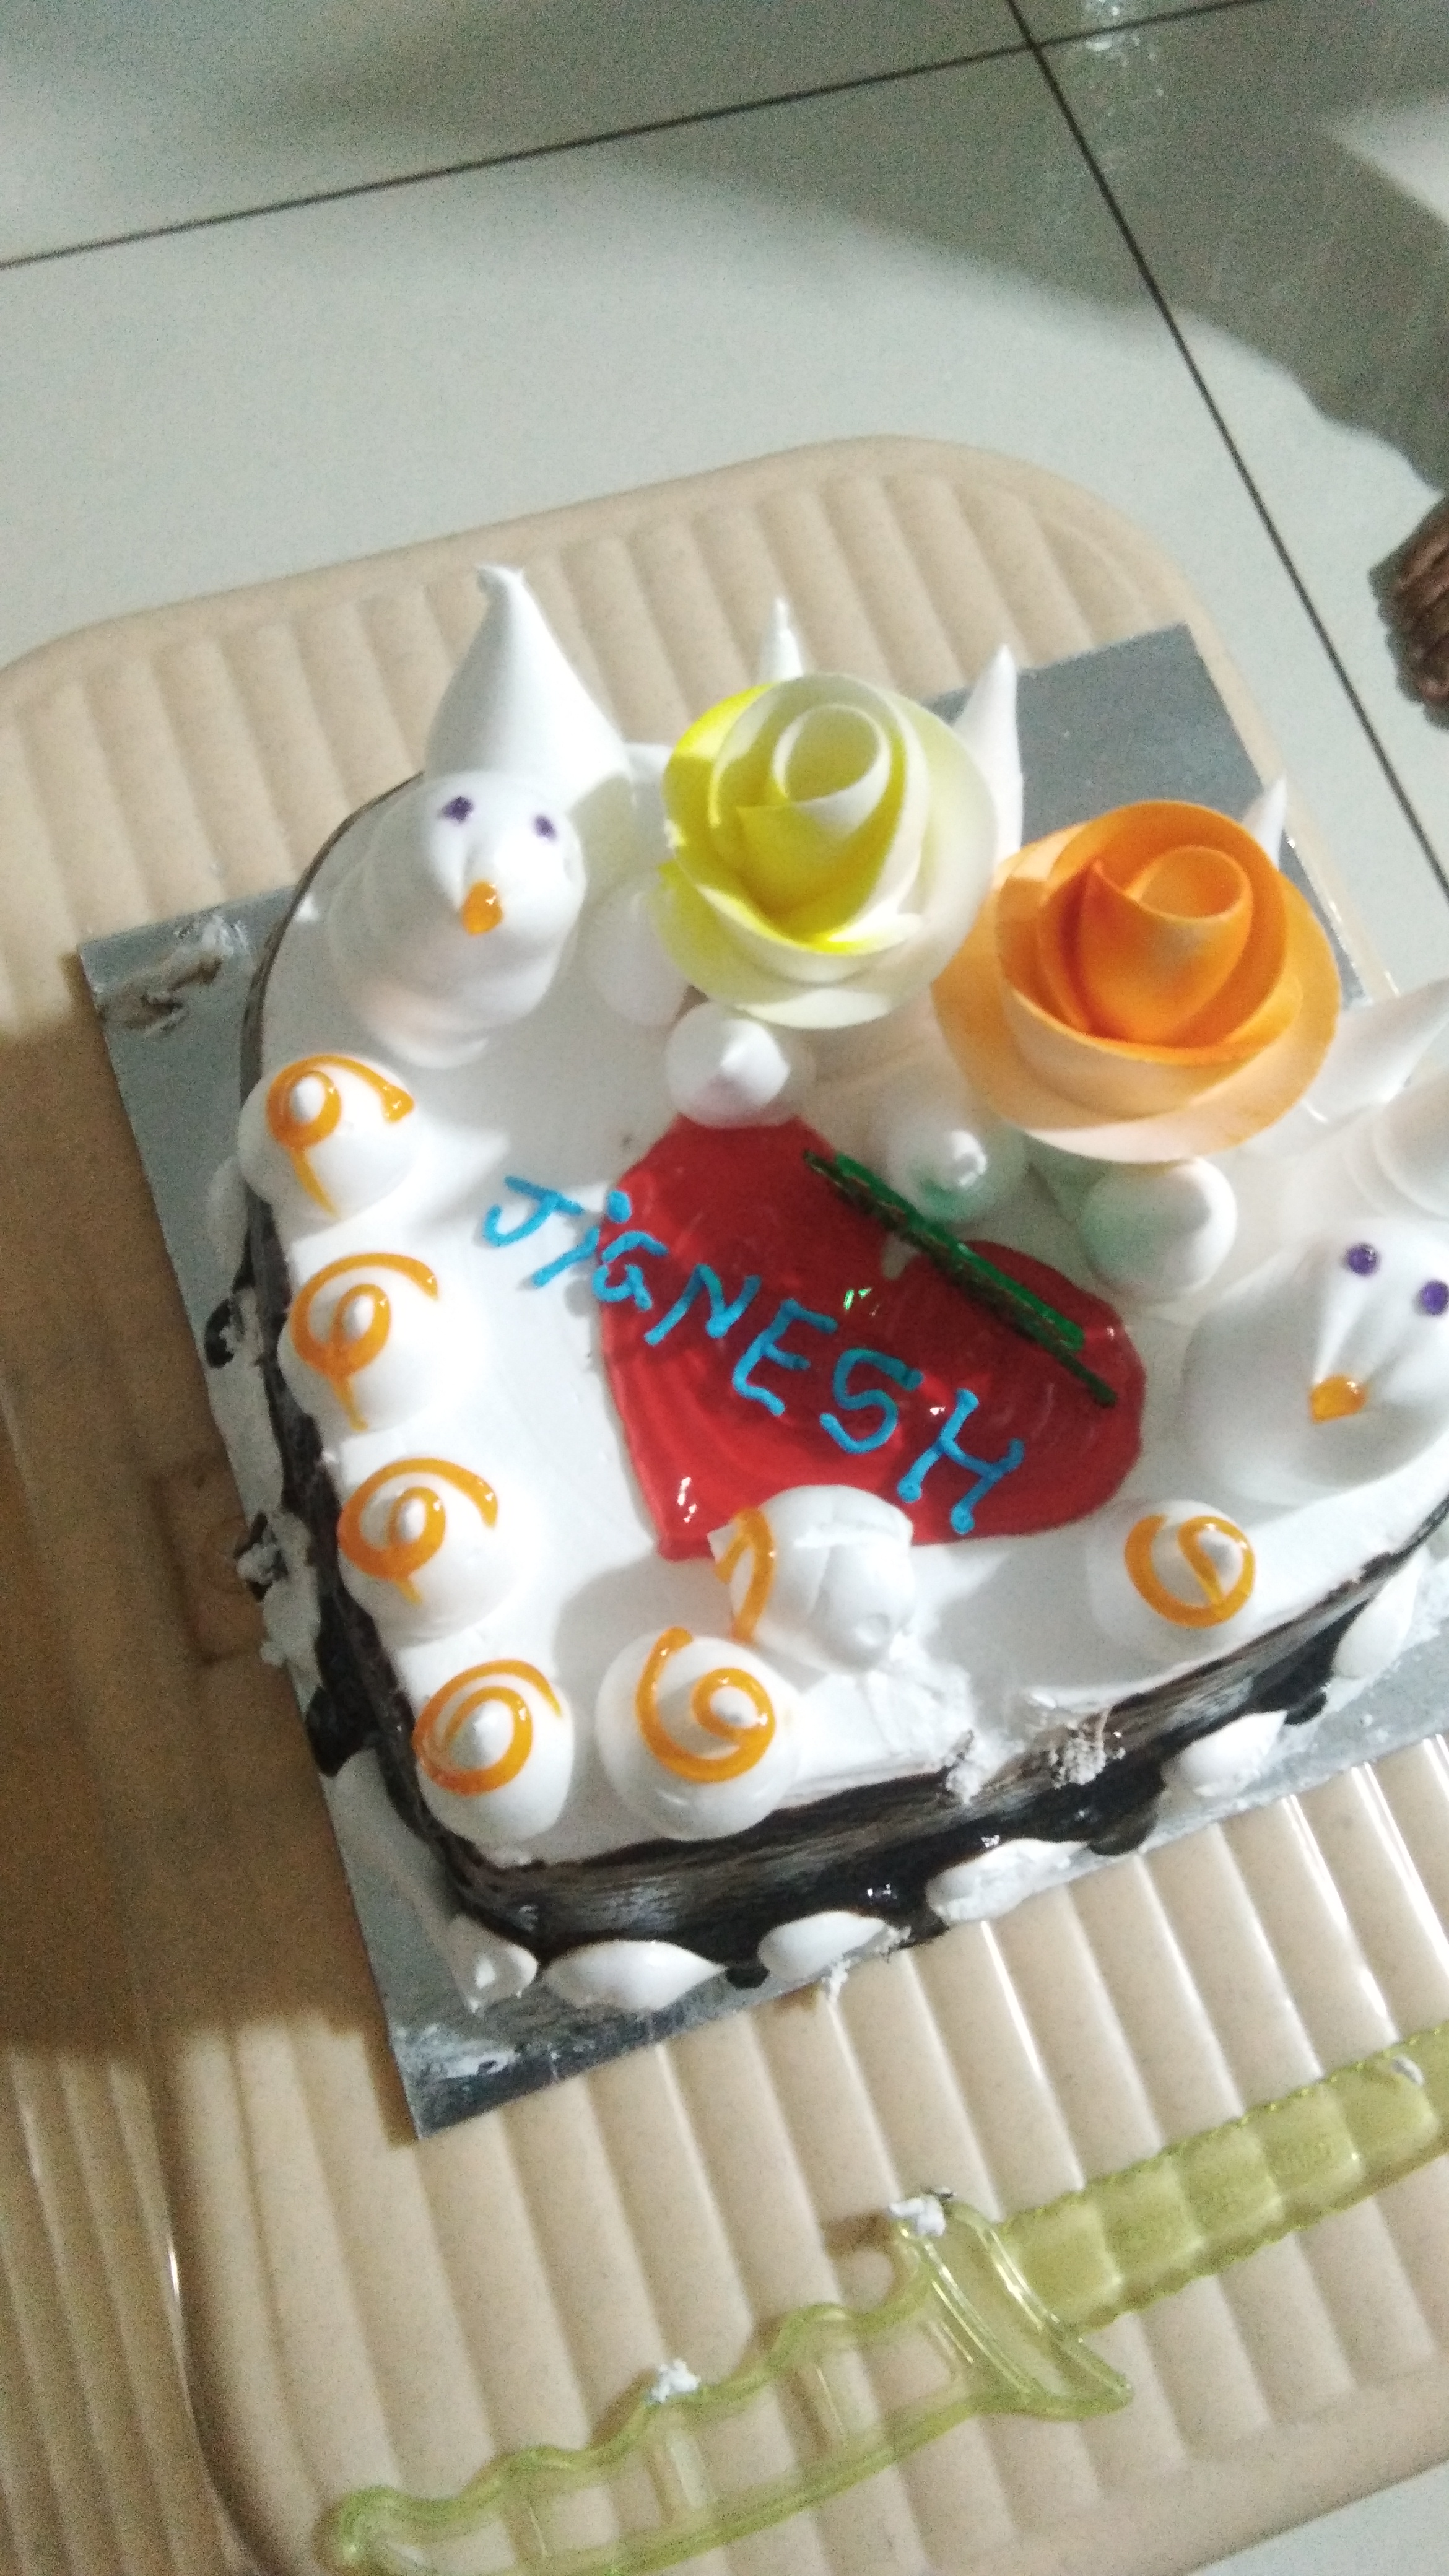food: (189, 547, 1449, 2052)
